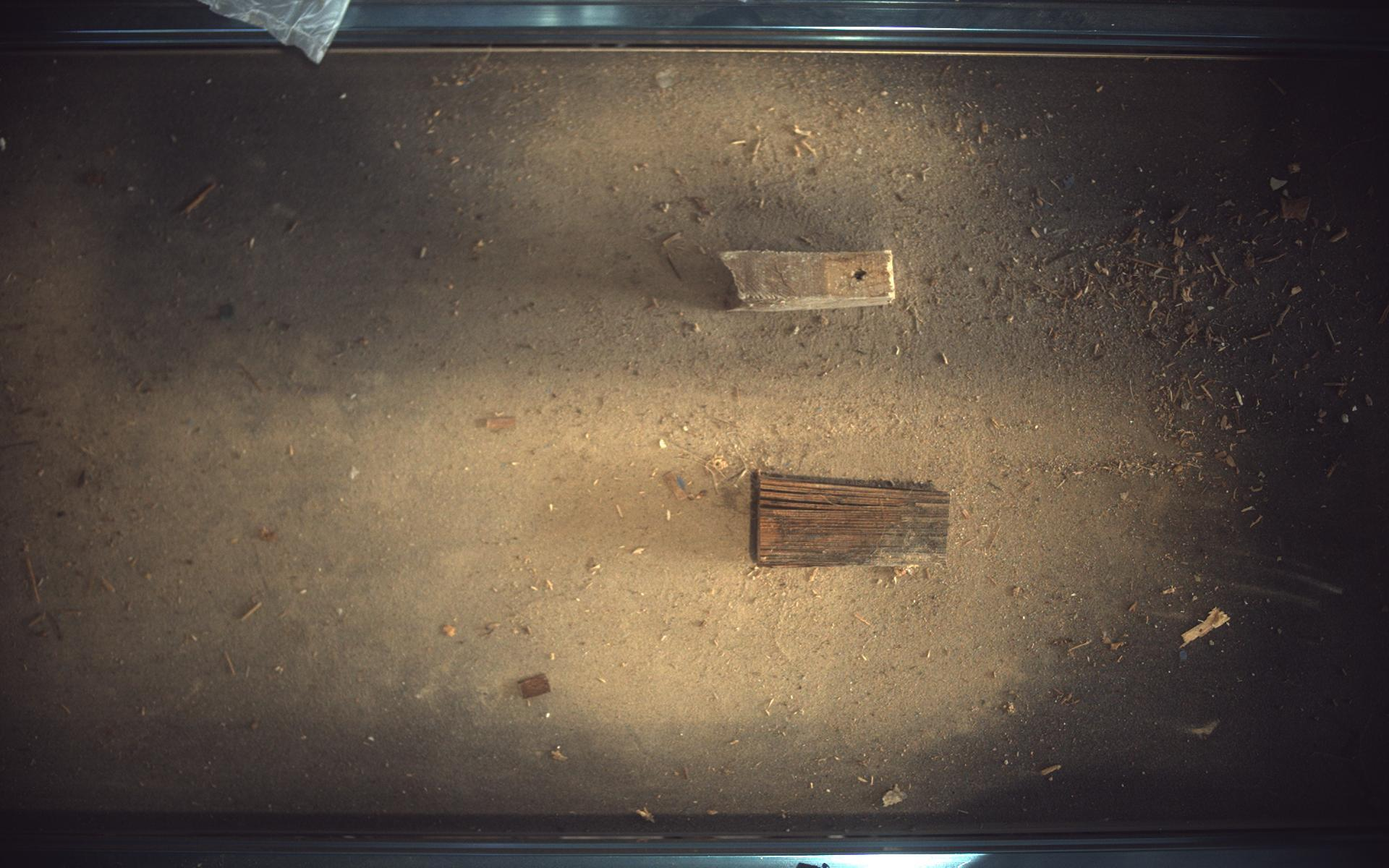wood: (752, 470, 951, 567), (722, 250, 897, 310)
